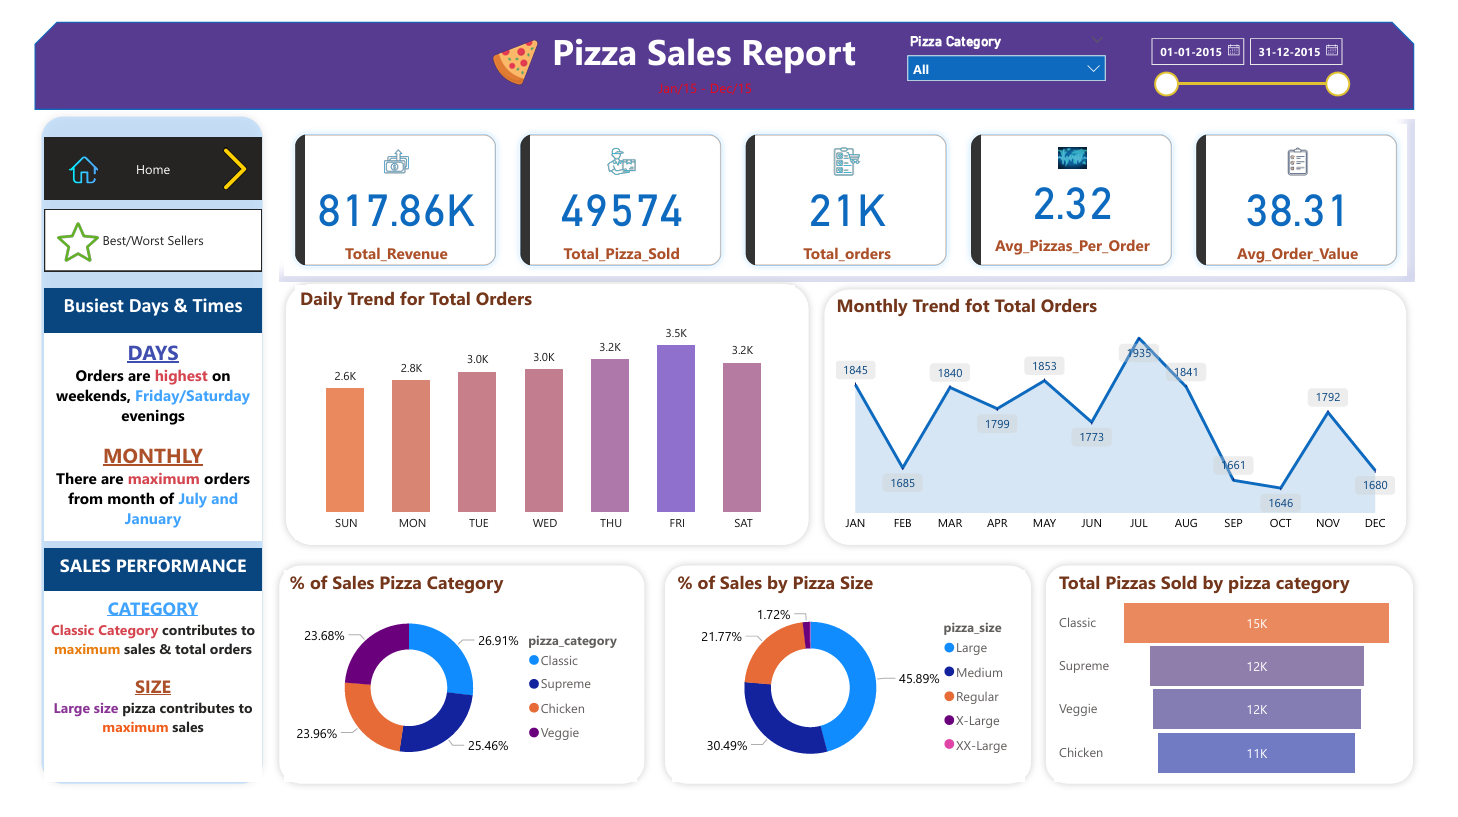

The dashboard page shown, as its layout file describes it:
{"tool":"powerbi","page":{"name":"Home","canvas":[1500,820],"ordinal":0},"visuals":[{"type":"cardVisual","fields":{"Data":["pizza_sales.Total_Revenue","pizza_sales.Total_Pizza_Sold","pizza_sales.Total_orders","pizza_sales.Avg_Pizzas_Per_Order","pizza_sales.Avg_Order_Value"]},"box":[285.5,101.7,1187.9,169.9],"z":0},{"type":"shape","box":[27.9,0,1445.6,91.9],"z":1000},{"type":"textbox","box":[536.2,0,385.8,72.4],"z":2000},{"type":"textbox","box":[658.7,54.3,143.4,36.2],"z":3000},{"type":"image","box":[500,12.5,62.7,59.9],"z":4000},{"type":"shape","box":[282.7,266,564,289.7],"z":5000},{"type":"columnChart","title":"Daily Trend for Total Orders","fields":{"Category":["pizza_sales.Order Day"],"Y":["pizza_sales.Total_orders"]},"box":[300.8,275.7,523.6,267.4],"z":6000},{"type":"shape","box":[846.7,271.6,626.7,284.1],"z":7000},{"type":"areaChart","title":"Monthly Trend fot Total Orders","fields":{"Category":["pizza_sales.Order Month"],"Y":["pizza_sales.Total_orders"]},"box":[863.5,284.1,593.3,259],"z":8000},{"type":"shape","box":[275.7,561.2,399.7,245.1],"z":9000},{"type":"shape","box":[679.6,561.2,400,245],"z":10000},{"type":"shape","box":[1079.3,561.2,401.1,245.1],"z":11000},{"type":"donutChart","title":"% of Sales Pizza Category","fields":{"Category":["pizza_sales.pizza_category"],"Y":["pizza_sales.Total_Revenue"]},"box":[289.7,573.8,369.1,221.4],"z":12000},{"type":"donutChart","title":"% of Sales by Pizza Size","fields":{"Y":["pizza_sales.Total_Revenue"],"Category":["pizza_sales.pizza_size"]},"box":[696.3,573.8,369.1,221.4],"z":13000},{"type":"funnel","title":"Total Pizzas Sold by pizza category","fields":{"Category":["pizza_sales.pizza_category"],"Y":["pizza_sales.Total_Pizza_Sold"]},"box":[1096,573.8,360.7,221.4],"z":14000},{"type":"shape","box":[27.2,90.5,248.1,715.3],"z":15000},{"type":"textbox","box":[38,278.9,228.2,47.1],"z":16000},{"type":"textbox","box":[38,326,228.2,217.3],"z":17000},{"type":"textbox","box":[38,550.5,228.2,48.9],"z":18000},{"type":"textbox","box":[38,595.8,228.2,199.2],"z":19000},{"type":"slicer","fields":{"Values":["pizza_sales.pizza_category"]},"box":[931.7,7,228.4,72.4],"z":20000},{"type":"slicer","fields":{"Values":["pizza_sales.order_date"]},"box":[1185.2,7,228.4,72.4],"z":21000},{"type":"pageNavigator","box":[38,121.3,228.2,65.2],"z":21001},{"type":"pageNavigator","box":[38,195.6,228.2,65.2],"z":21002},{"type":"image","box":[210.1,126.8,56.1,54.3],"z":21003},{"type":"image","box":[59.8,128.6,39.8,52.5],"z":21004},{"type":"image","box":[47.1,199.2,52.5,61.6],"z":21005}]}

Visuals, with their boxes in screenshot pixels (x1, y1, x2, y2), scaled from the page's 1500x820 canvas onto the 1458x817 screenshot:
cardVisual - pizza_sales.Total_Revenue x pizza_sales.Total_Pizza_Sold: (x1=278, y1=101, x2=1432, y2=271)
shape: (x1=27, y1=0, x2=1432, y2=92)
textbox: (x1=521, y1=0, x2=896, y2=72)
textbox: (x1=640, y1=54, x2=780, y2=90)
image: (x1=486, y1=12, x2=547, y2=72)
shape: (x1=275, y1=265, x2=823, y2=554)
"Daily Trend for Total Orders" columnChart: (x1=292, y1=275, x2=801, y2=541)
shape: (x1=823, y1=271, x2=1432, y2=554)
"Monthly Trend fot Total Orders" areaChart: (x1=839, y1=283, x2=1416, y2=541)
shape: (x1=268, y1=559, x2=656, y2=803)
shape: (x1=661, y1=559, x2=1049, y2=803)
shape: (x1=1049, y1=559, x2=1439, y2=803)
"% of Sales Pizza Category" donutChart: (x1=282, y1=572, x2=640, y2=792)
"% of Sales by Pizza Size" donutChart: (x1=677, y1=572, x2=1036, y2=792)
"Total Pizzas Sold by pizza category" funnel: (x1=1065, y1=572, x2=1416, y2=792)
shape: (x1=26, y1=90, x2=268, y2=803)
textbox: (x1=37, y1=278, x2=259, y2=325)
textbox: (x1=37, y1=325, x2=259, y2=541)
textbox: (x1=37, y1=548, x2=259, y2=597)
textbox: (x1=37, y1=594, x2=259, y2=792)
slicer - pizza_sales.pizza_category: (x1=906, y1=7, x2=1128, y2=79)
slicer - pizza_sales.order_date: (x1=1152, y1=7, x2=1374, y2=79)
pageNavigator: (x1=37, y1=121, x2=259, y2=186)
pageNavigator: (x1=37, y1=195, x2=259, y2=260)
image: (x1=204, y1=126, x2=259, y2=180)
image: (x1=58, y1=128, x2=97, y2=180)
image: (x1=46, y1=198, x2=97, y2=260)
